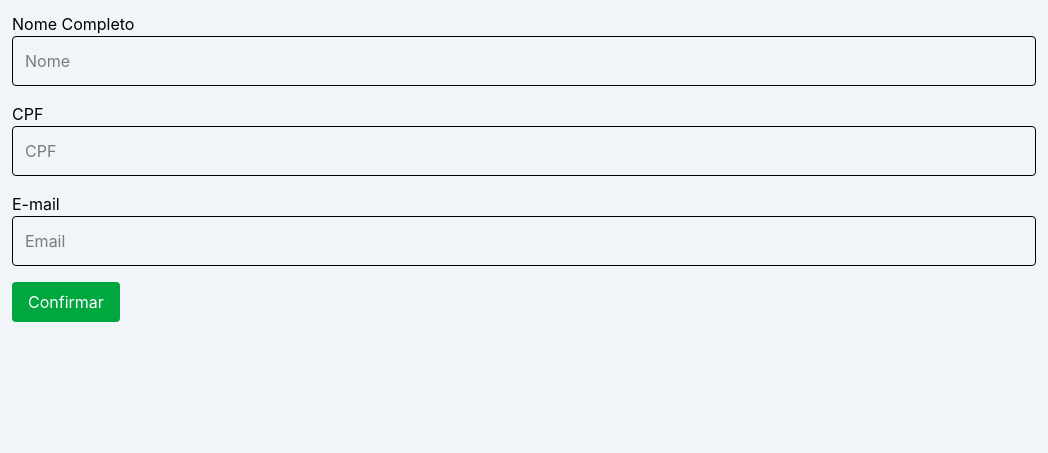
Test: PassengerForm › deve validar email
Step 1. Type "teste" into the field with placeholder "Email" → point(524, 241), box [12,216,1036,266]
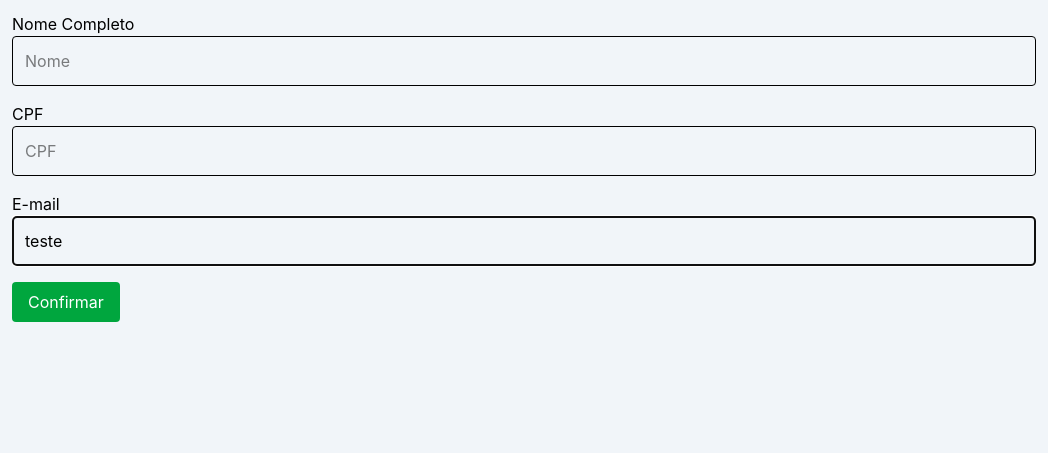
Step 2. Click the button "Confirmar" → point(66, 302), box [12,282,120,322]
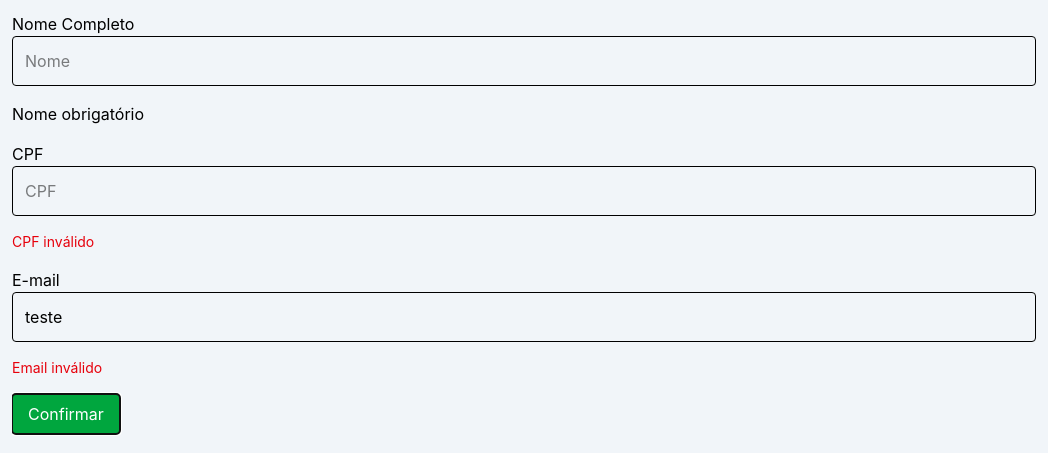
Expected: the text "Email inválido" is shown, [12,359,102,376]
